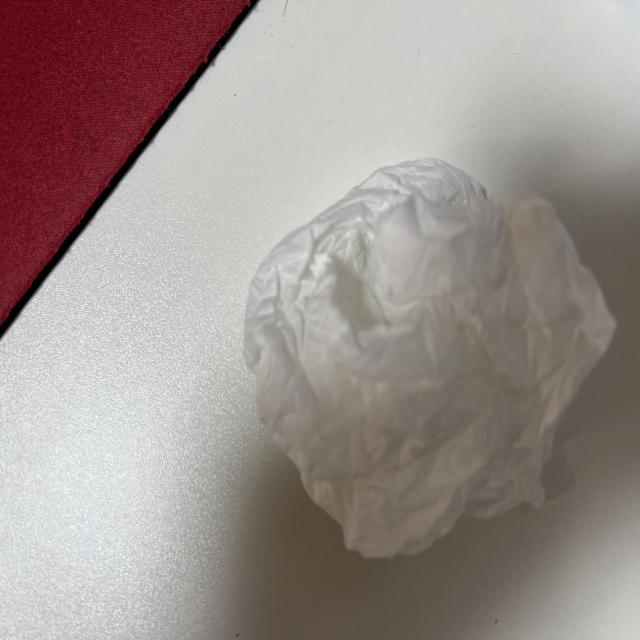衛生紙: (244, 158, 618, 556)
